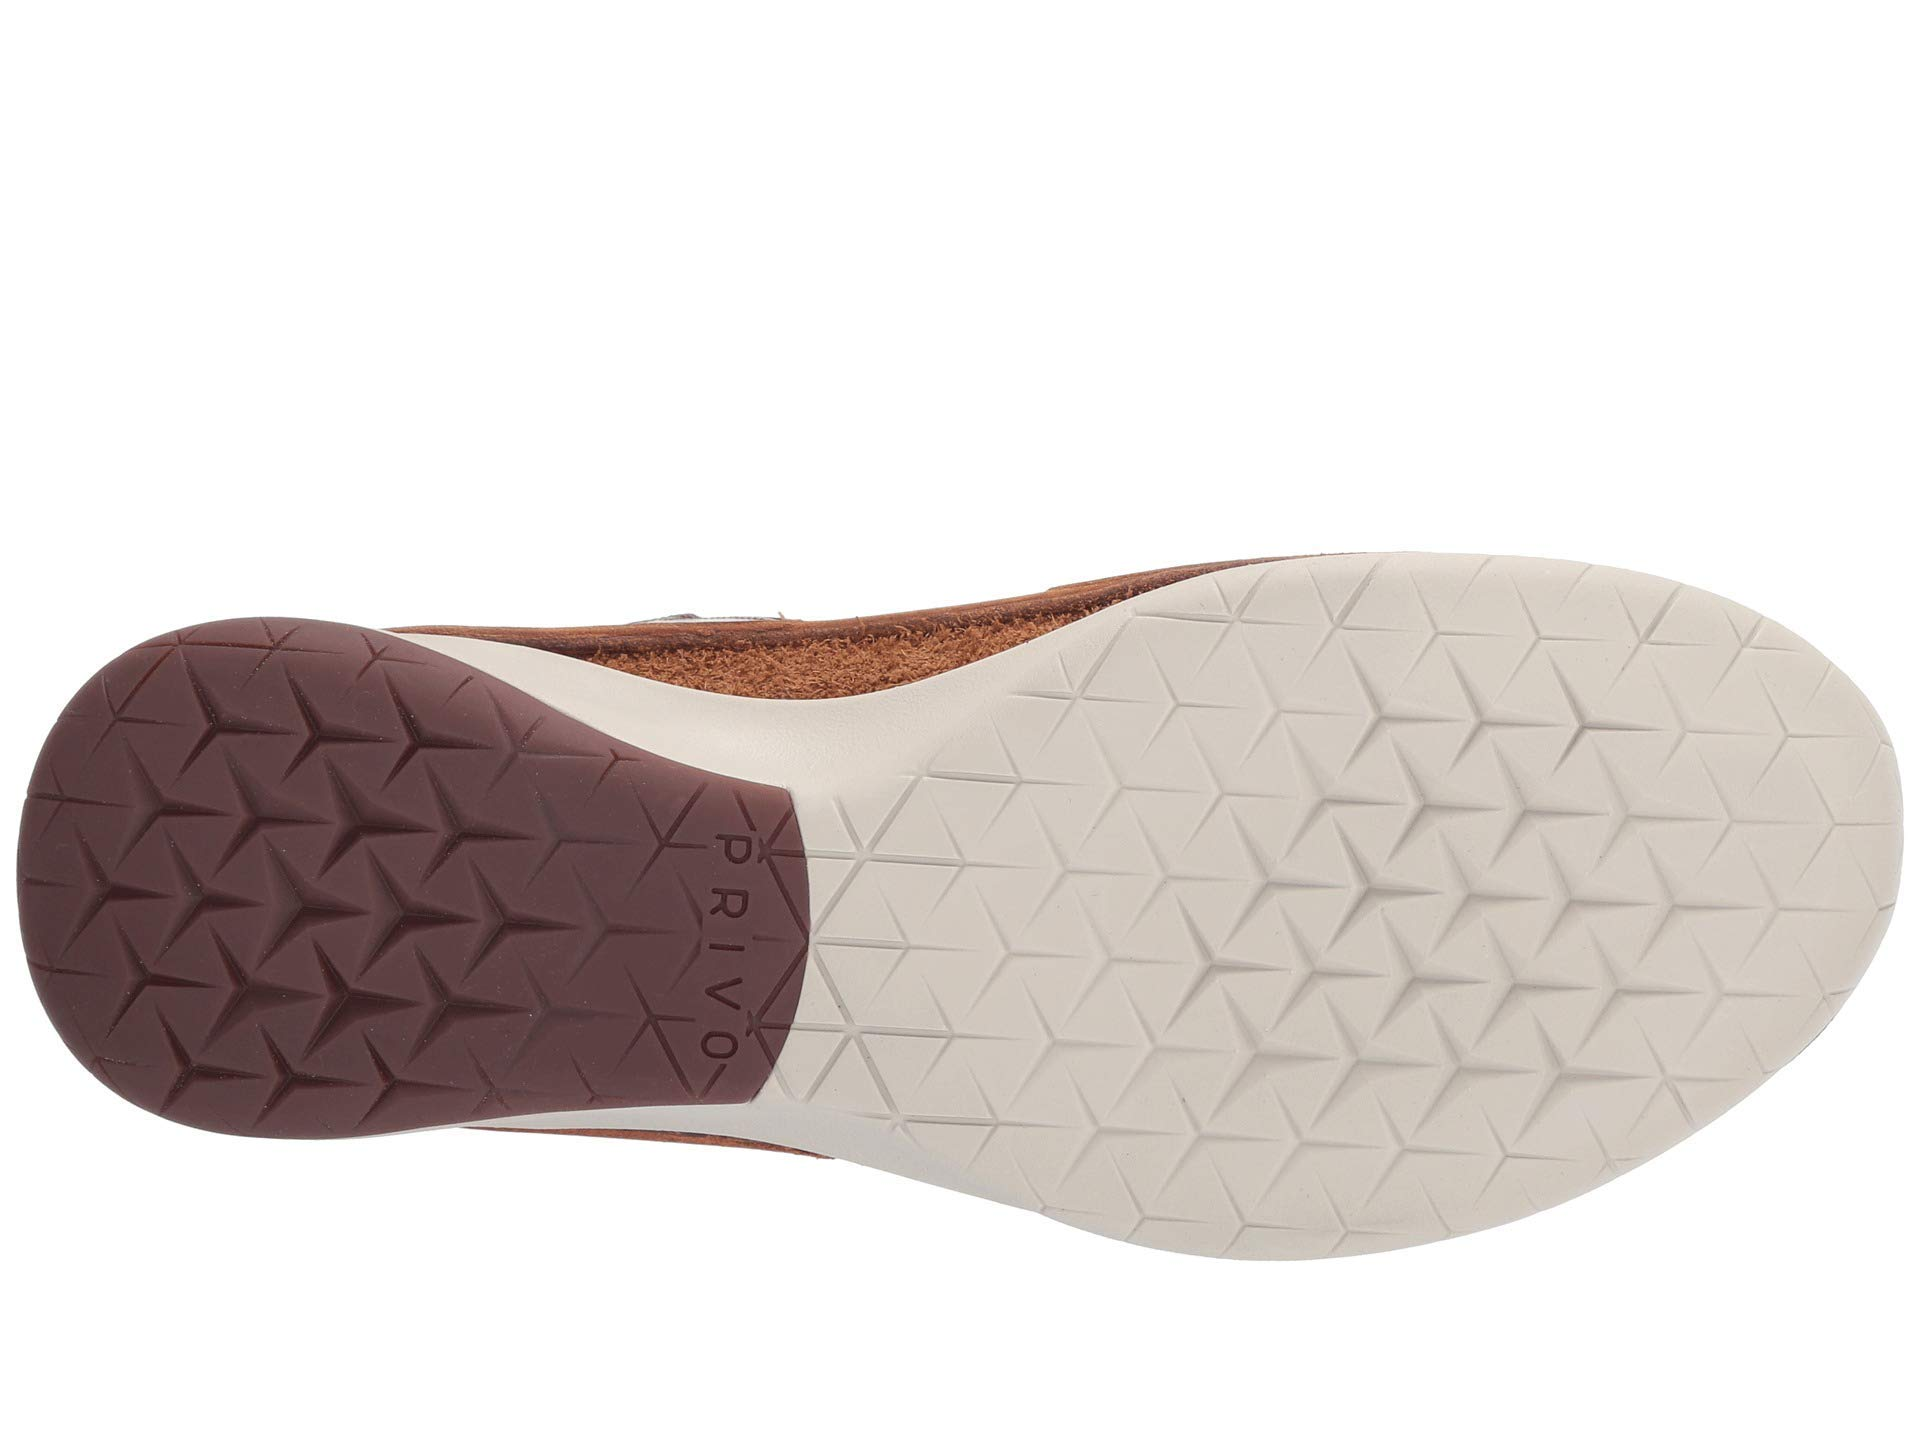circle: (639, 806, 1030, 1121)
polygon: (1197, 702, 1686, 1147), (159, 709, 555, 1068), (639, 806, 1030, 1121)
star: (1197, 702, 1686, 1147), (159, 709, 555, 1068)
text: (639, 806, 1030, 1121)
triangle: (1197, 702, 1686, 1147), (159, 709, 555, 1068), (639, 806, 1030, 1121)
